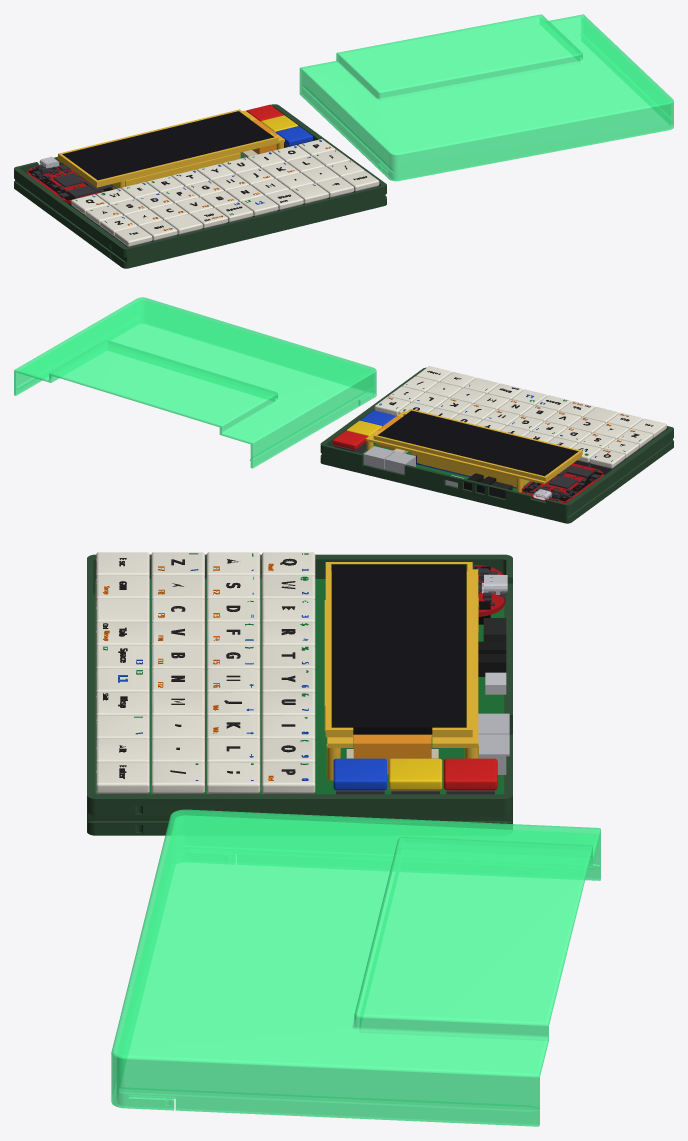
The model's file is beside_forest.glb.
3 views of the same model, one above another, from view 1: azimuth 30°, elevation 25°; view 2: azimuth 150°, elevation 25°; view 3: azimuth 270°, elevation 25° (orthographic). The views are drawn at different scales.
Visible parts, largest first — view 1: Lid, Internals, Tray; view 2: Lid, Internals, Tray; view 3: Lid, Internals, Tray.
Part boxes in pixels (box(x1,y1,x2,y2)): Lid: box(299, 14, 673, 181); Internals: box(27, 104, 379, 247); Tray: box(14, 104, 386, 268); Lid: box(14, 297, 376, 468); Internals: box(332, 366, 666, 502); Tray: box(320, 367, 673, 523); Lid: box(111, 809, 600, 1126); Internals: box(95, 552, 509, 794); Tray: box(87, 554, 512, 835).
Bounding box in the file's own units: 0.3903 × 0.0227 × 0.1583.
